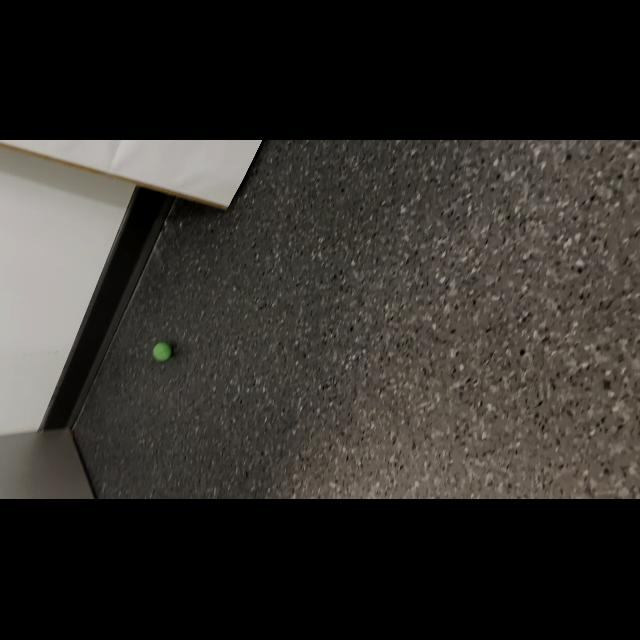objects: (151, 338, 173, 364)
